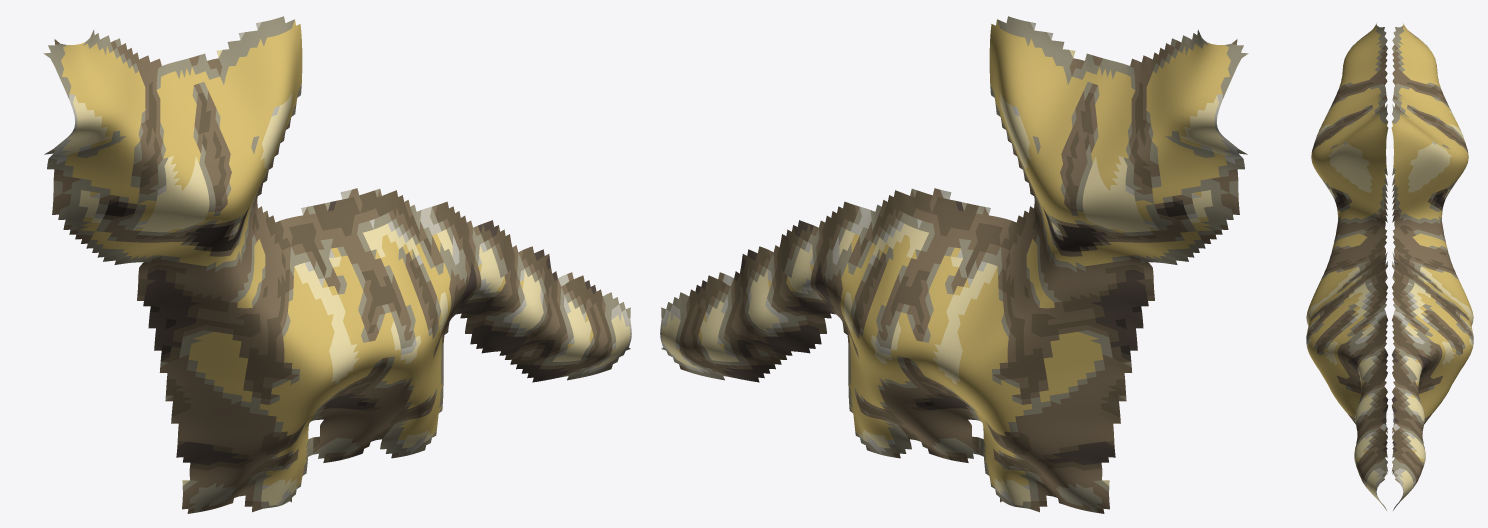
File: wildcat.glb
The picture shows the model from 3 angles, left to right: view 1: azimuth 30°, elevation 25°; view 2: azimuth 150°, elevation 25°; view 3: azimuth 270°, elevation 25°; orthographic projection. The views are drawn at different scales.
Parts seen in each view (by area): view 1: wildcat; view 2: wildcat; view 3: wildcat.
Boxes of the visible parts, bbox=[...] form: wildcat: bbox=[43, 16, 631, 513]; wildcat: bbox=[660, 16, 1248, 513]; wildcat: bbox=[1306, 23, 1473, 510].
Size of the model in its own units: 853 by 724 by 312.
